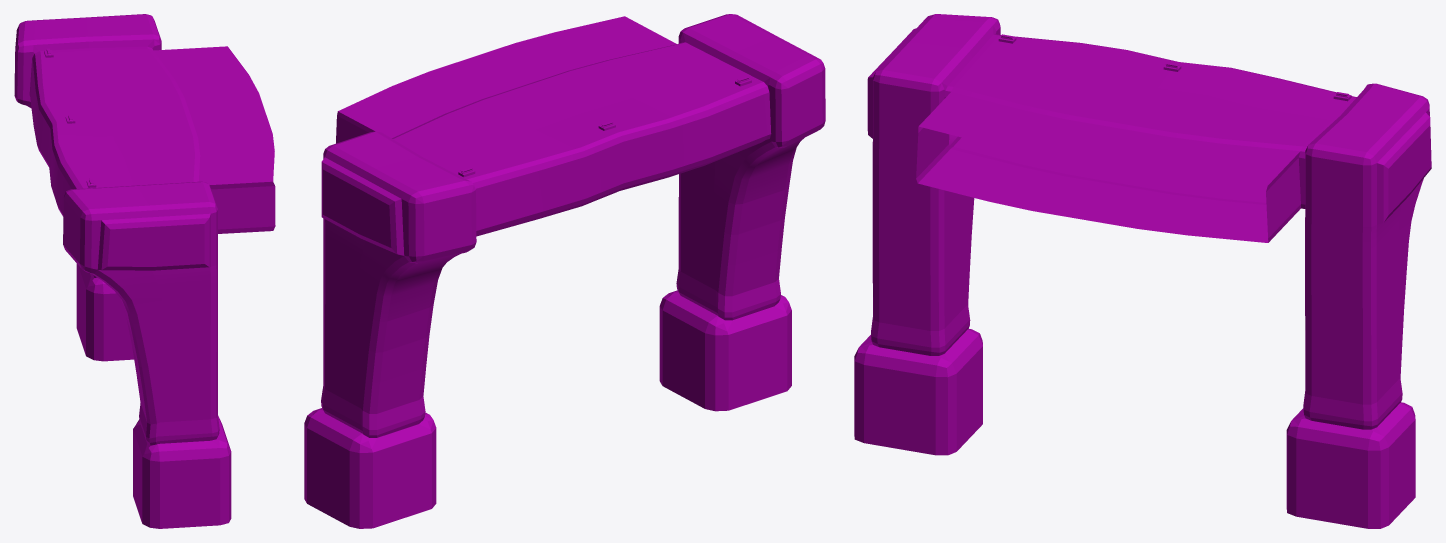
Rendered from Platform_C.fbx.
3 renders of one model, left to right at view 1: azimuth 30°, elevation 25°; view 2: azimuth 150°, elevation 25°; view 3: azimuth 270°, elevation 25°, orthographic. The views are drawn at different scales.
Parts seen in each view (by area): view 1: Platform_C; view 2: Platform_C; view 3: Platform_C.
Part boxes in pixels (x1,y1,x2,y2): Platform_C: [14, 14, 275, 528]; Platform_C: [304, 14, 825, 528]; Platform_C: [854, 14, 1431, 528].
Size of the model in its own units: 11.89 by 12.28 by 17.54.
